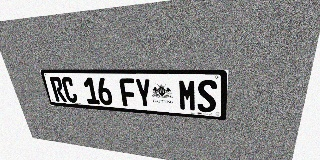1: (82, 77, 100, 104)
6: (95, 78, 113, 105)
C: (60, 77, 78, 103)
F: (119, 78, 137, 107)
M: (178, 79, 197, 111)
R: (49, 77, 67, 102)
S: (197, 79, 217, 113)
Y: (134, 78, 153, 108)
